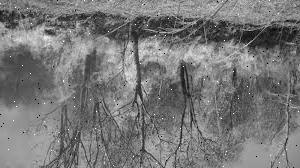fire: (0, 9, 299, 107)
